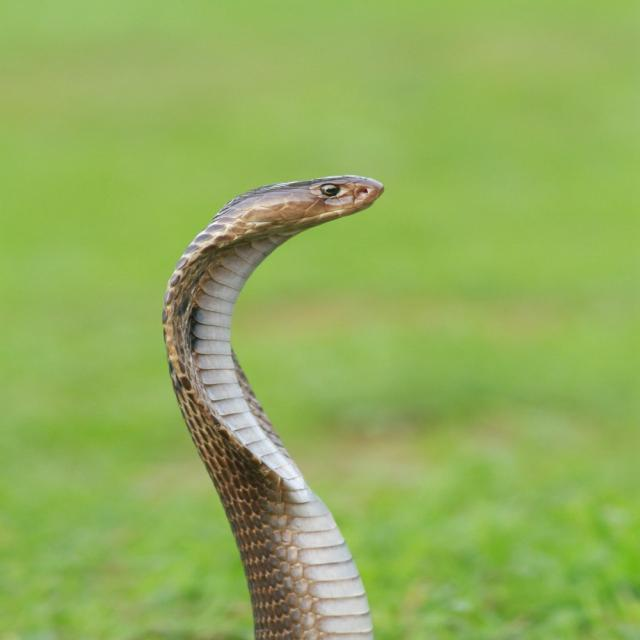Snake: (103, 122, 465, 640)
